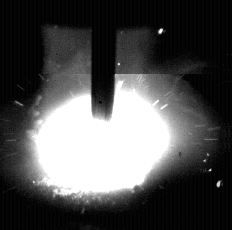arame: (92, 0, 115, 122)
poca: (33, 0, 171, 230)
